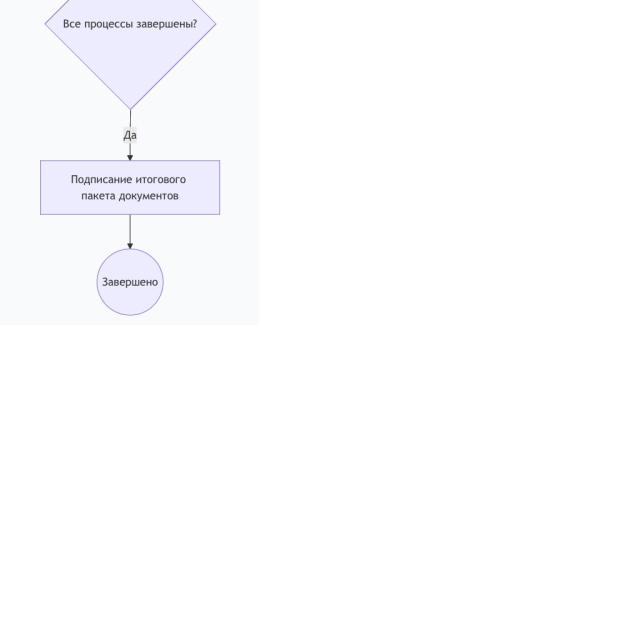arrow: (124, 110, 137, 161), (125, 215, 135, 251)
text_region: (121, 129, 141, 142)
